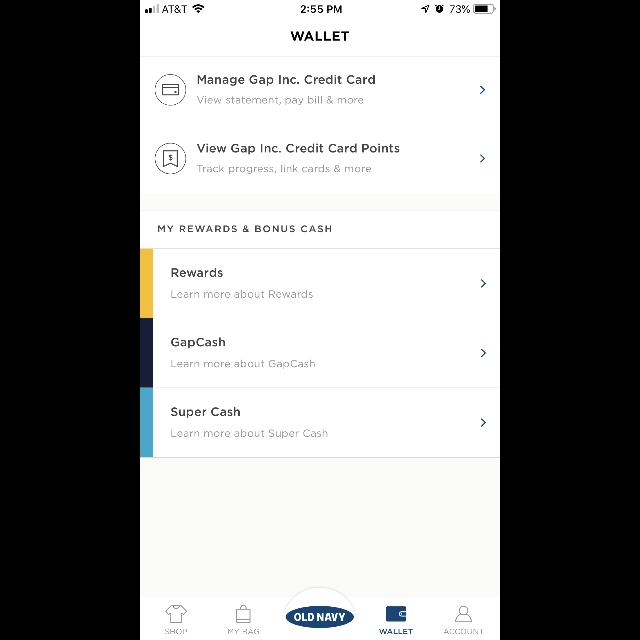icon: (156, 74, 187, 106), (156, 144, 187, 174), (386, 606, 406, 622), (454, 606, 472, 622), (237, 605, 251, 623), (480, 155, 486, 163), (480, 86, 486, 94), (482, 418, 486, 426), (482, 349, 486, 357), (482, 280, 486, 288)
image: (286, 606, 354, 628), (165, 605, 187, 623)
text: (198, 74, 374, 86), (197, 144, 399, 154), (172, 429, 328, 439), (197, 96, 363, 105), (172, 359, 314, 369), (197, 166, 371, 174), (158, 225, 332, 232), (172, 290, 312, 298), (172, 407, 240, 418), (171, 338, 225, 348), (291, 32, 349, 40), (172, 269, 222, 277), (444, 628, 484, 634), (380, 628, 412, 634), (228, 628, 260, 634), (165, 628, 187, 634)
uppertaskbar: (140, 0, 500, 14)
